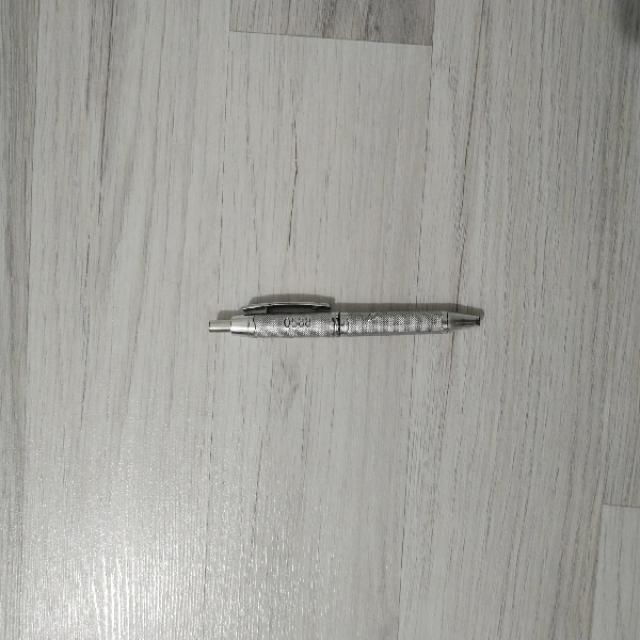signature pen: (210, 302, 479, 337)
